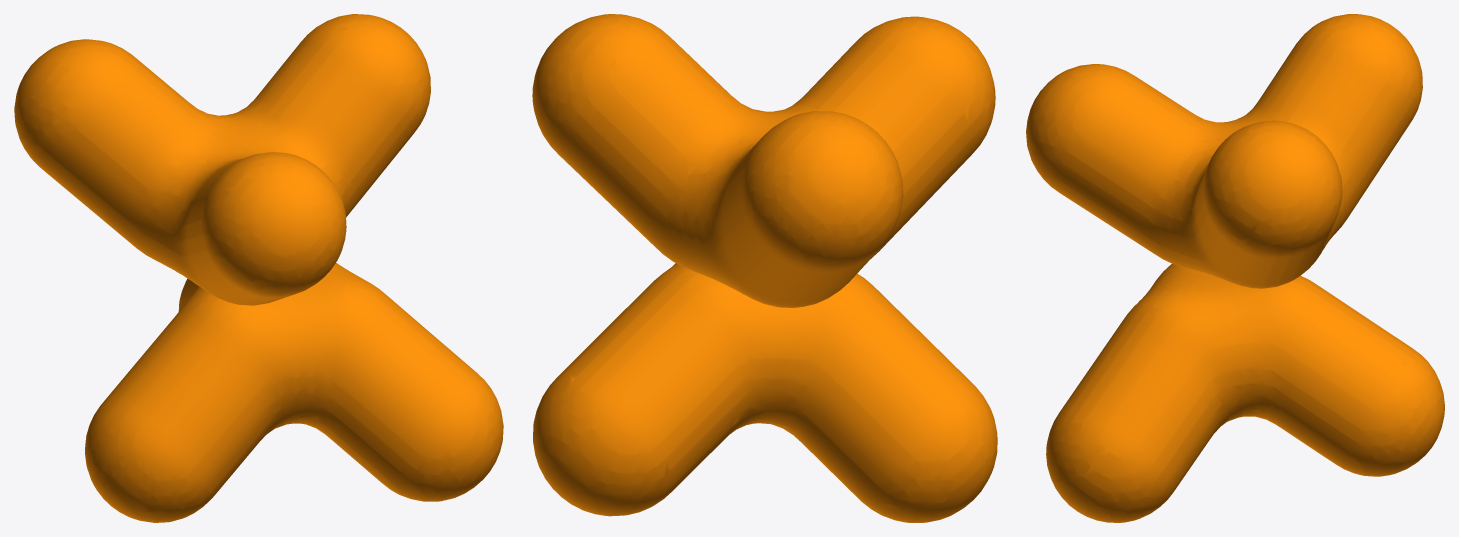
The model's file is Rounded.gltf.
3 renders of one model, left to right at view 1: azimuth 30°, elevation 25°; view 2: azimuth 150°, elevation 25°; view 3: azimuth 270°, elevation 25°, orthographic. The views are drawn at different scales.
Parts seen in each view (by area): view 1: Mball.001, Mball.002; view 2: Mball.001, Mball.002; view 3: Mball.001, Mball.002.
Boxes of the visible parts, x1=… form: Mball.001: x1=14, y1=14, x2=430, y2=305; Mball.002: x1=85, y1=263, x2=503, y2=522; Mball.001: x1=532, y1=14, x2=995, y2=307; Mball.002: x1=533, y1=263, x2=997, y2=522; Mball.001: x1=1026, y1=14, x2=1422, y2=288; Mball.002: x1=1046, y1=264, x2=1444, y2=522.
Bounding box in the file's own units: 4.11 × 4.46 × 4.3.
